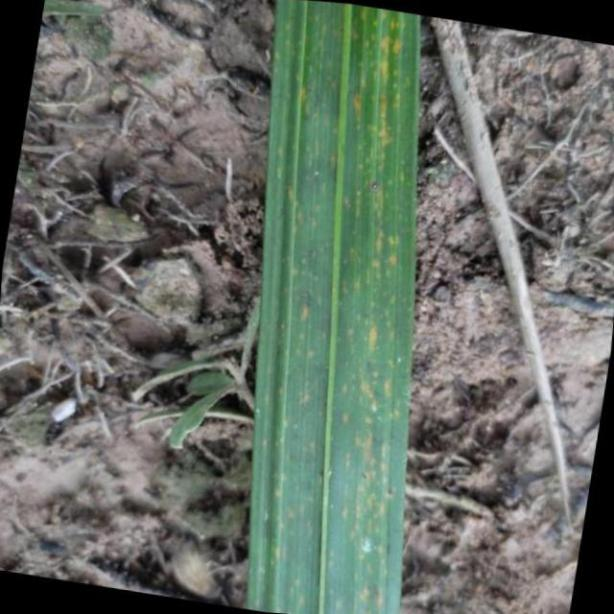Kalium: (243, 0, 422, 614)
